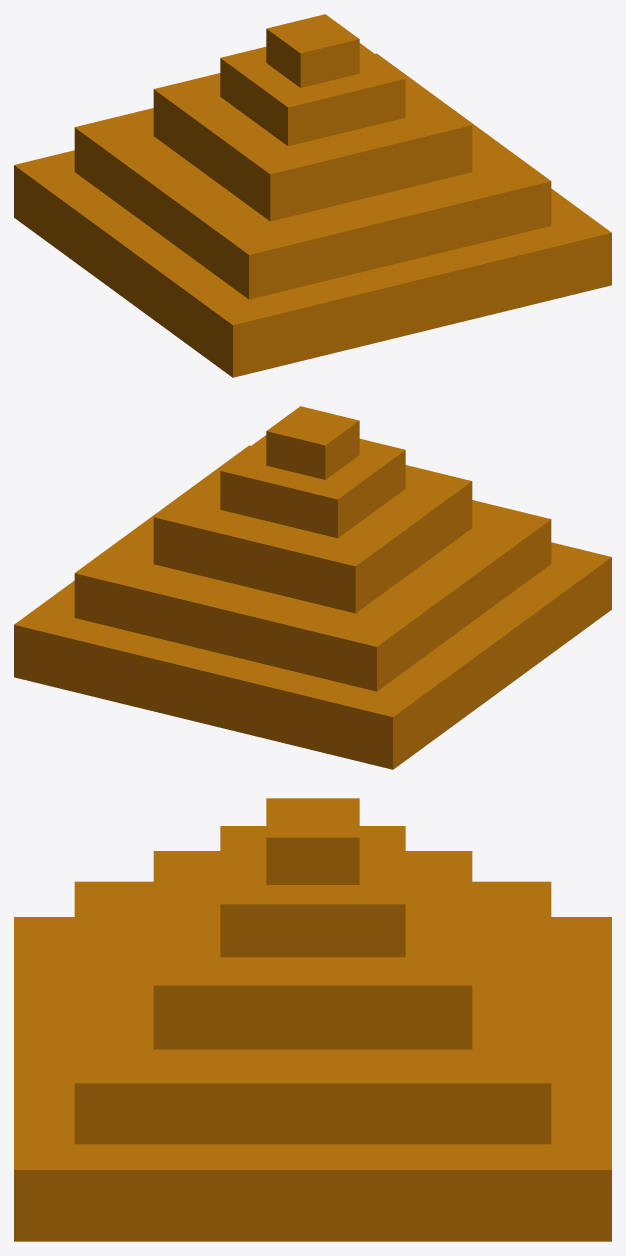
File: ClassicPyramidMesh.fbx
3 views of the same model, one above another, from view 1: azimuth 30°, elevation 25°; view 2: azimuth 150°, elevation 25°; view 3: azimuth 270°, elevation 25° (orthographic). The views are drawn at different scales.
Visible parts, largest first — view 1: Cube; view 2: Cube; view 3: Cube.
Part boxes in pixels (x1,y1,x2,y2): Cube: (14,14,611,377); Cube: (14,406,611,769); Cube: (14,798,611,1241).
Size of the model in its own units: 200 by 110 by 200.
